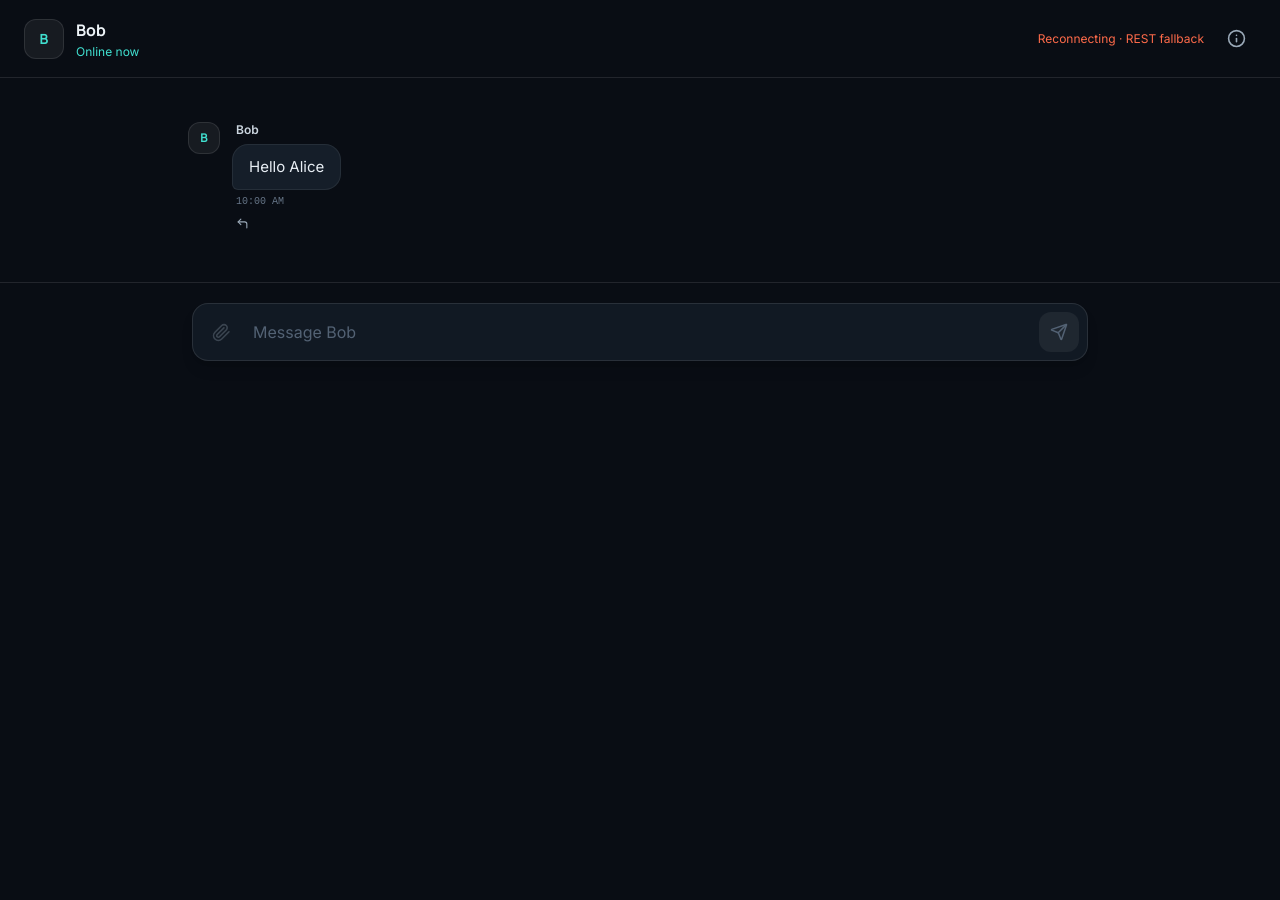
Test: chat controls › shows live presence and working conversation details
Expected: the text "Online now" is shown, [76,44,139,58]
Click the button named "Conversation details". click: (1236, 38)
box: [1216,18,1256,58]
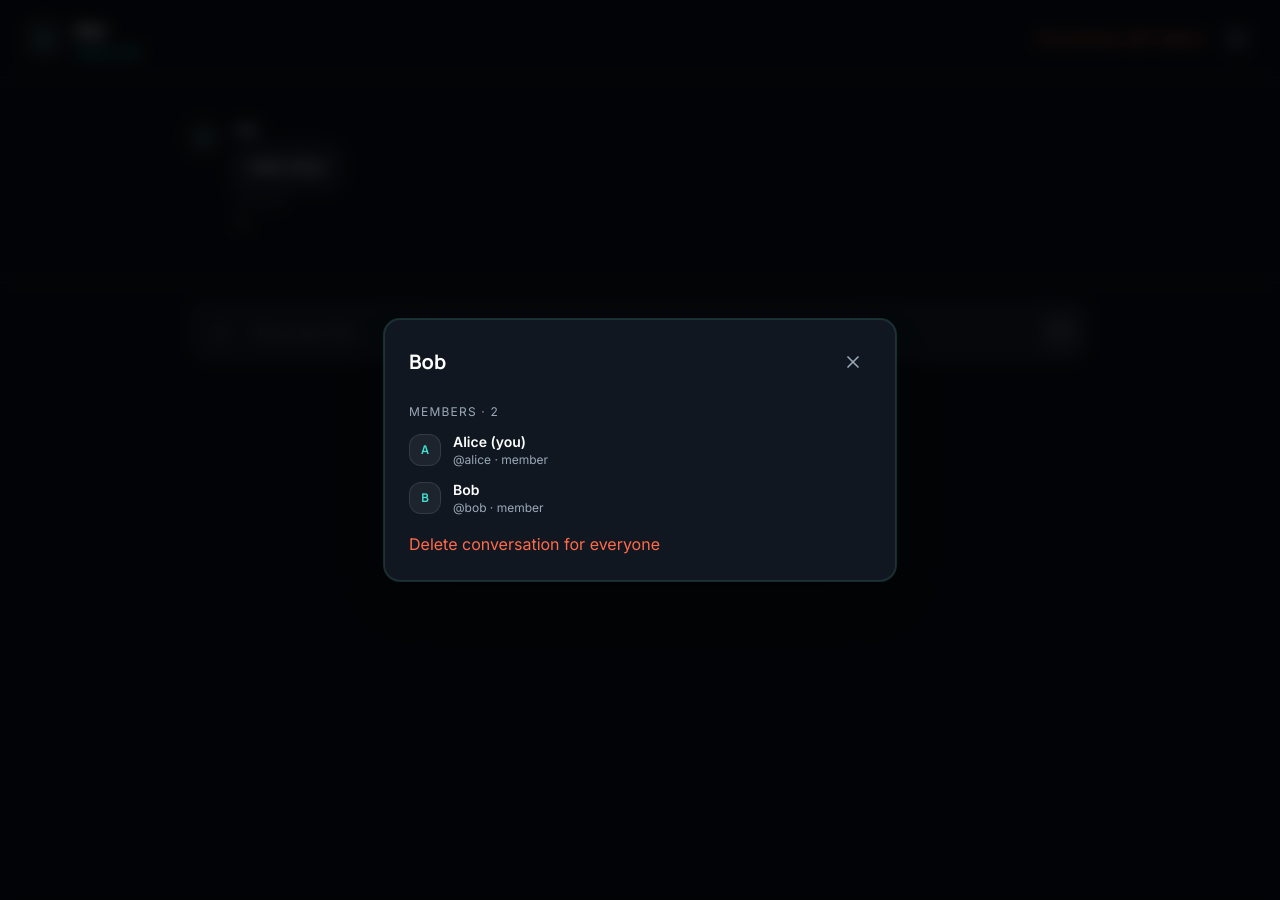
Click the button named "Close conversation details". click: (853, 362)
box: [835,344,871,380]
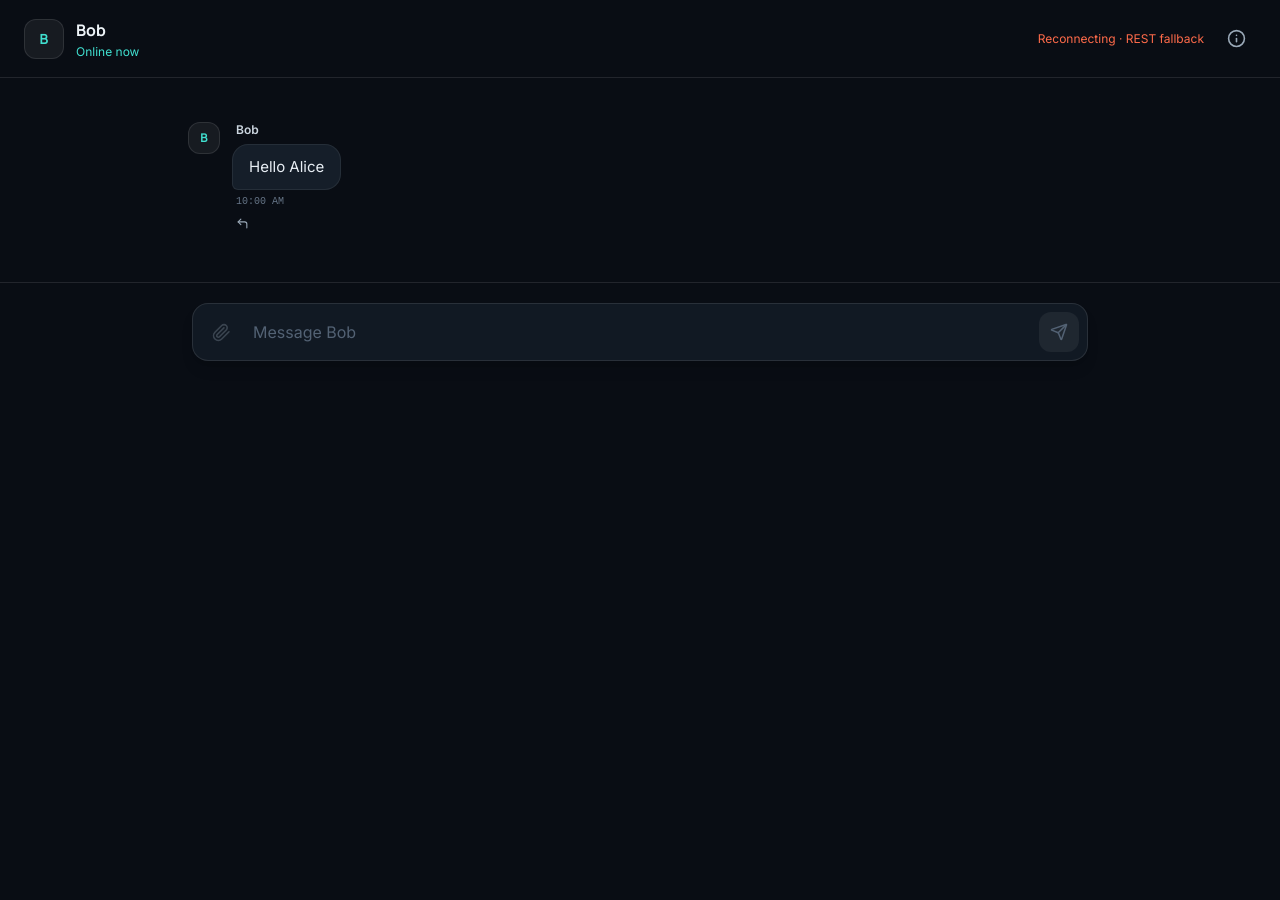
Result: the dialog is gone
